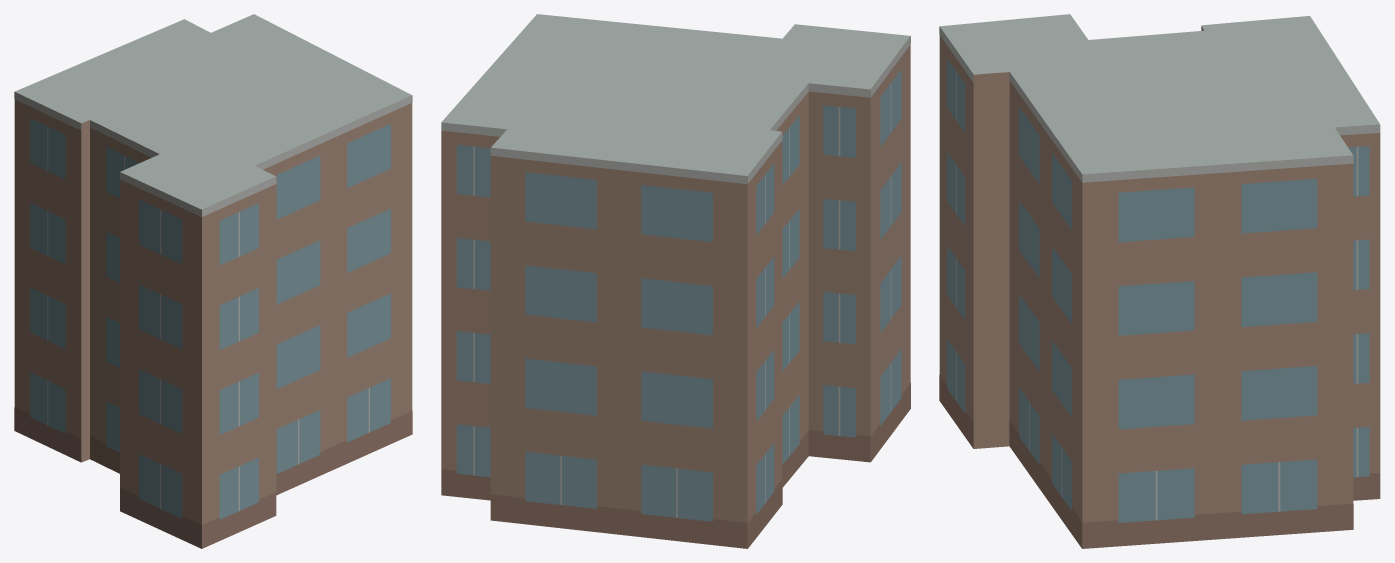
The model's file is survey-upis-32756194.glb.
The picture shows the model from 3 angles, left to right: view 1: azimuth 30°, elevation 25°; view 2: azimuth 150°, elevation 25°; view 3: azimuth 270°, elevation 25°; orthographic projection. The views are drawn at different scales.
Parts seen in each view (by area): view 1: survey-upis-32756194.tmp; view 2: survey-upis-32756194.tmp; view 3: survey-upis-32756194.tmp.
Boxes of the visible parts, x1,y1,x2,y2 form: survey-upis-32756194.tmp: [14, 14, 412, 548]; survey-upis-32756194.tmp: [441, 14, 910, 548]; survey-upis-32756194.tmp: [939, 14, 1380, 548].
Bounding box in the file's own units: 10.22 × 11.1 × 11.86.
